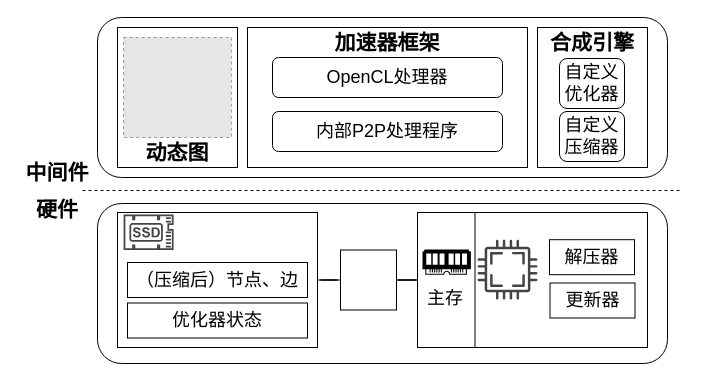
The diagram is 701 pixels wide and 381 high, and some of its shapes have lost their labels. Grey dashed boxes stand in for pictures. The shapes that lost their labels are listed below. From the top down, each one's centre as x and y in pixels, then its label:
At point (368, 279): "PCIe 交换".
At point (507, 269): "FPGA".
